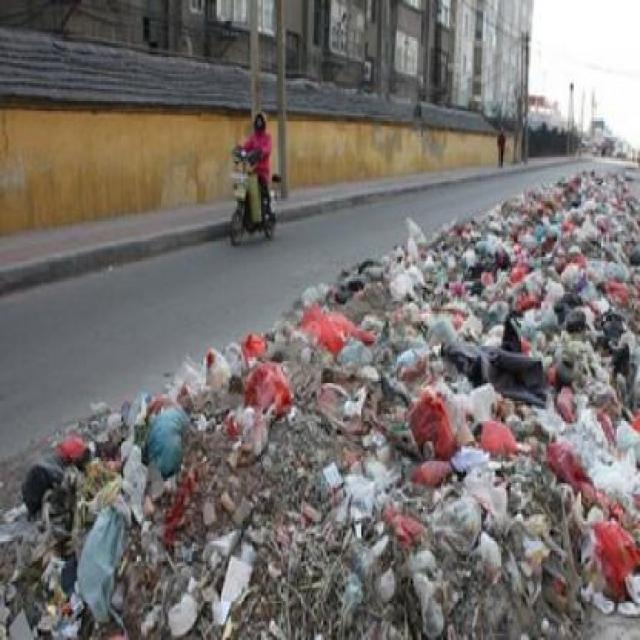garbage: (185, 357, 638, 638), (14, 434, 248, 623), (300, 275, 639, 354), (394, 226, 638, 276), (496, 193, 639, 232), (560, 178, 639, 193)
